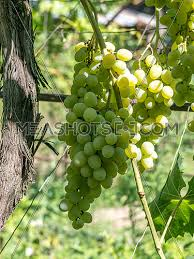grapes: (60, 47, 173, 232)
